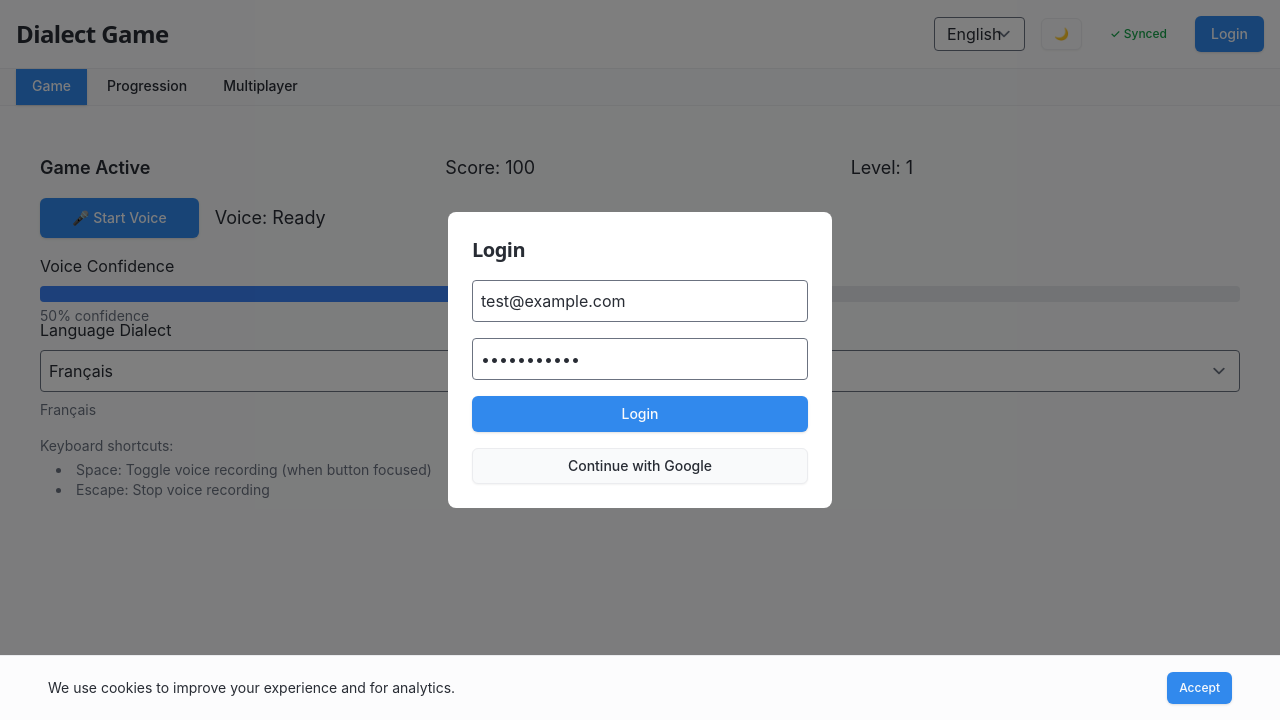
Test case: App Integration Tests (TDD CYCLE 6 RED Phase) › Phase RED - Tests d'intégration finale qui doivent échouer initialement › should implement complete user authentication with OAuth
# Test OAuth Google
Click the button with test id "google-login" at [640, 466], box 472,448 -> 808,484
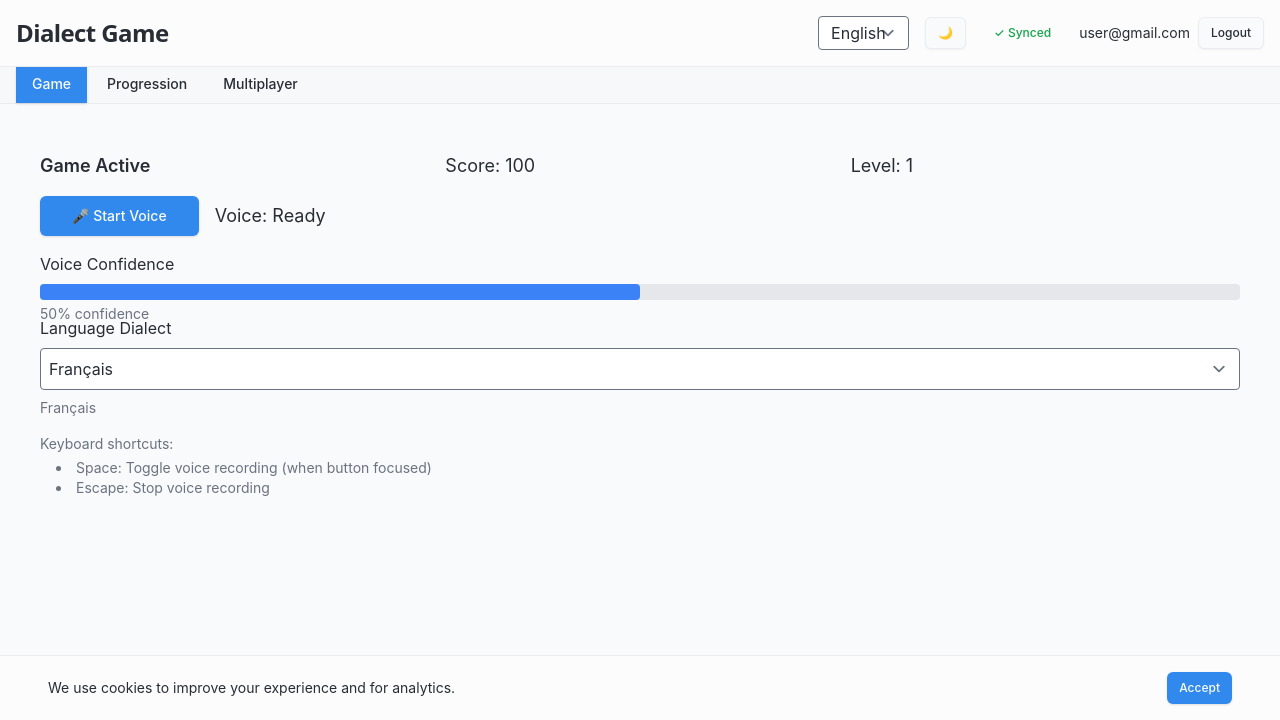
Expected: the text "user@gmail.com" is shown, 1079,23 -> 1190,43
Expected: the text with test id "user-profile" reads "user@gmail.com", 1079,24 -> 1190,41
